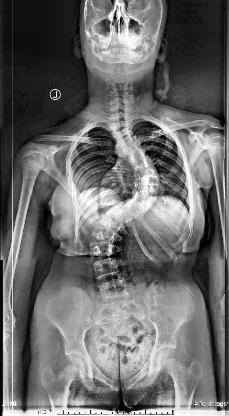Vertebrae: (89, 262, 126, 274), (98, 281, 134, 293), (88, 232, 128, 242), (108, 204, 158, 212), (87, 245, 124, 255), (134, 166, 160, 176), (124, 155, 156, 163), (92, 221, 134, 227), (102, 212, 143, 218), (113, 140, 143, 148), (119, 147, 150, 154), (130, 189, 165, 195), (106, 122, 136, 128), (109, 132, 139, 136), (136, 180, 164, 184), (131, 198, 159, 202)
